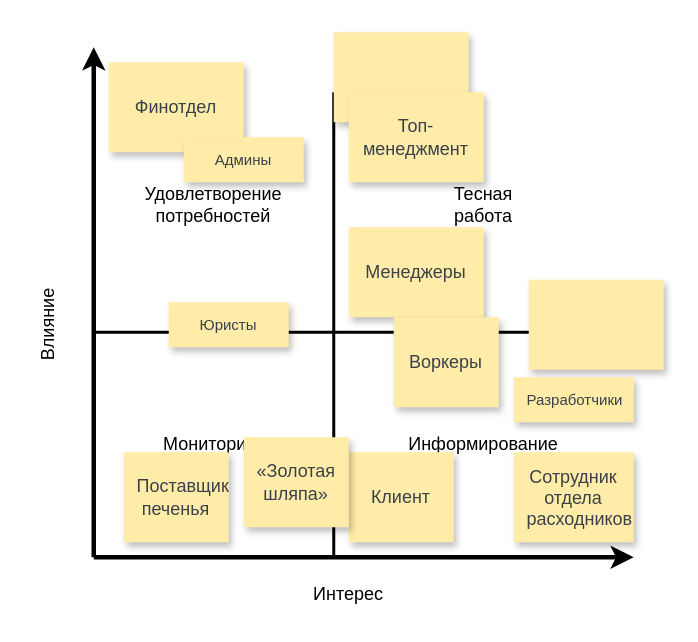
Image size: 698x642. Some labels were removed from this diagram. The shapes that lost their labels are listed below. From the top down, each one's centre as x and y in pixels, then its label:
point 402,79: Владелец
point 597,326: Контроль качества
